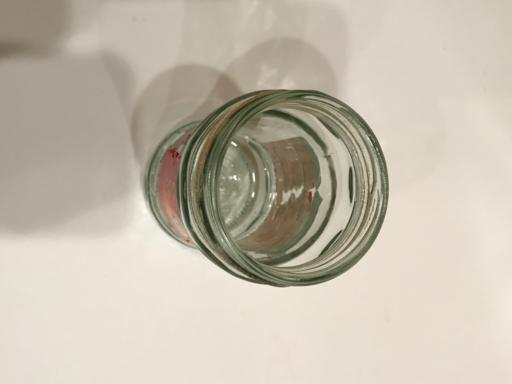glass: (143, 89, 390, 290)
